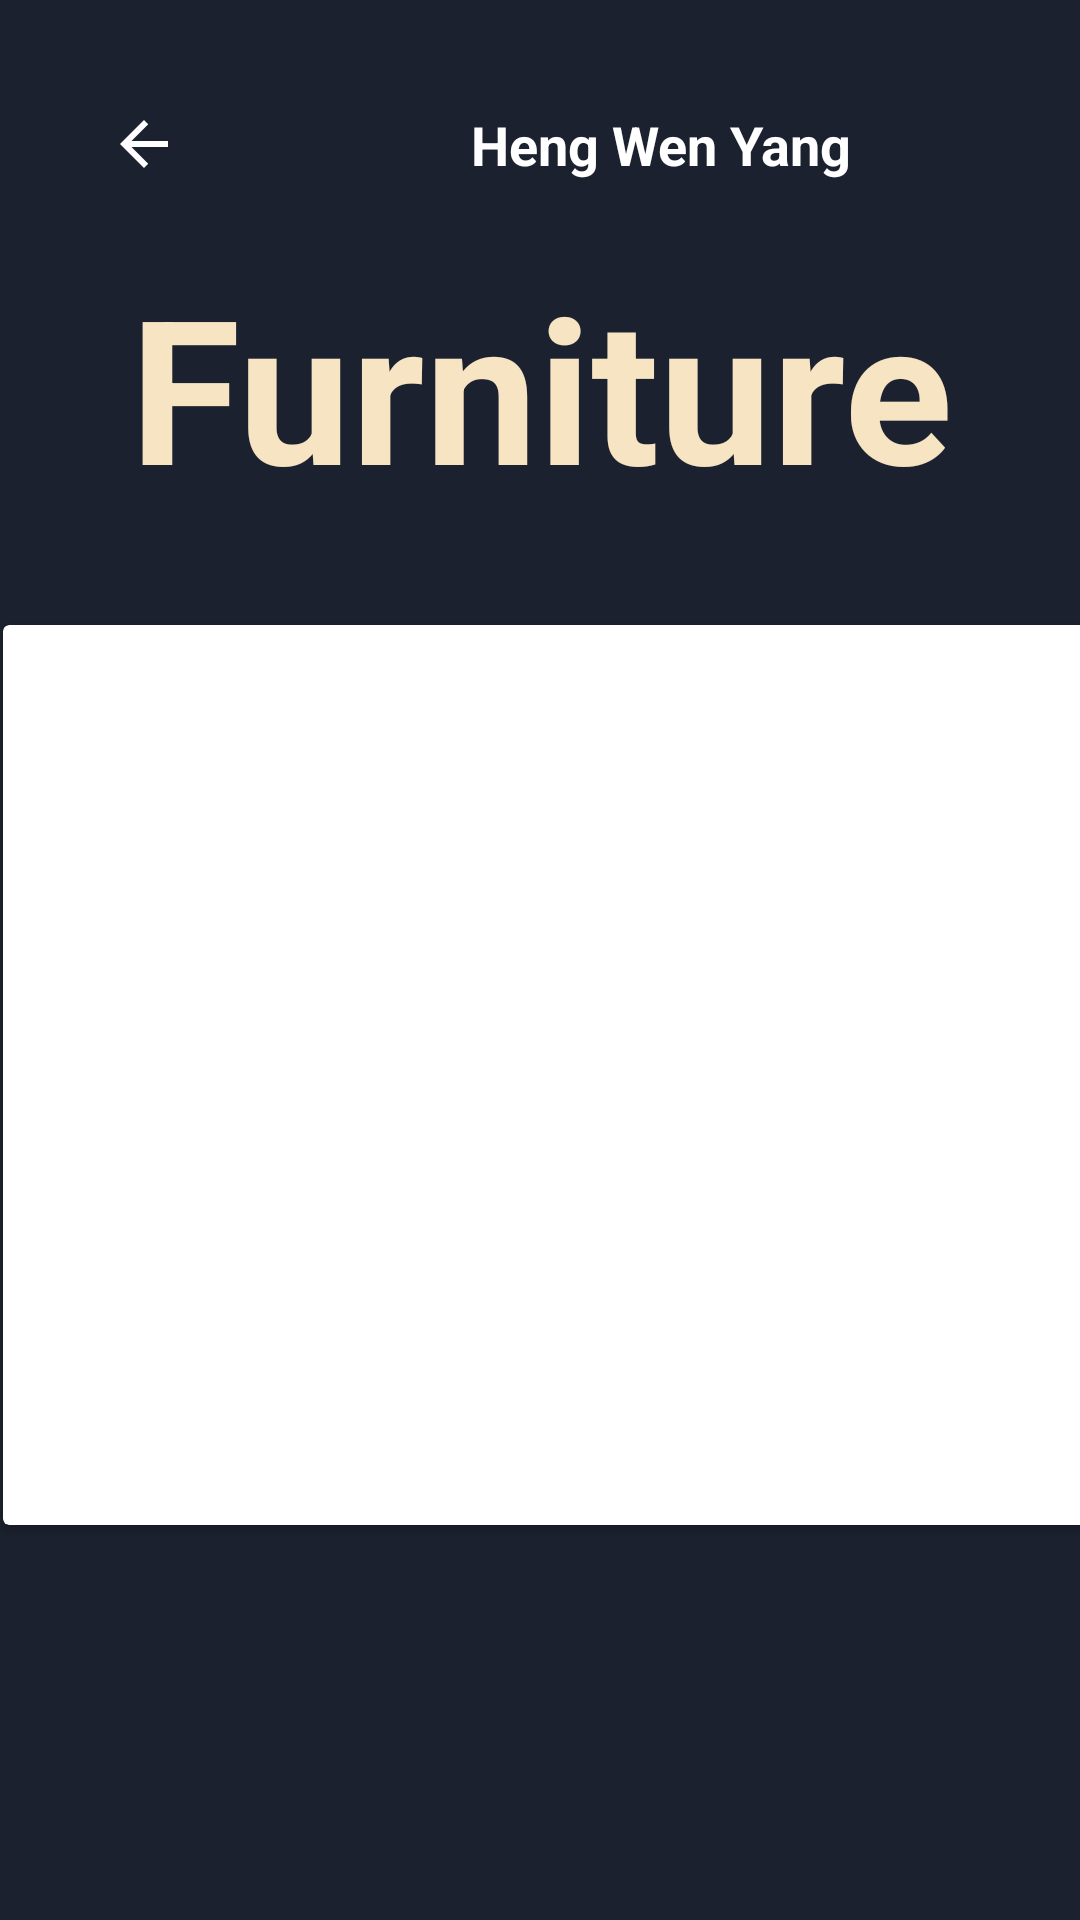

Locate icon controls on the screen. Image size 1080*1920, boxes as (x1=x1, y1=y1, x2=x2, y2=y2).
Back Button: (x1=120, y1=120, x2=168, y2=168)
